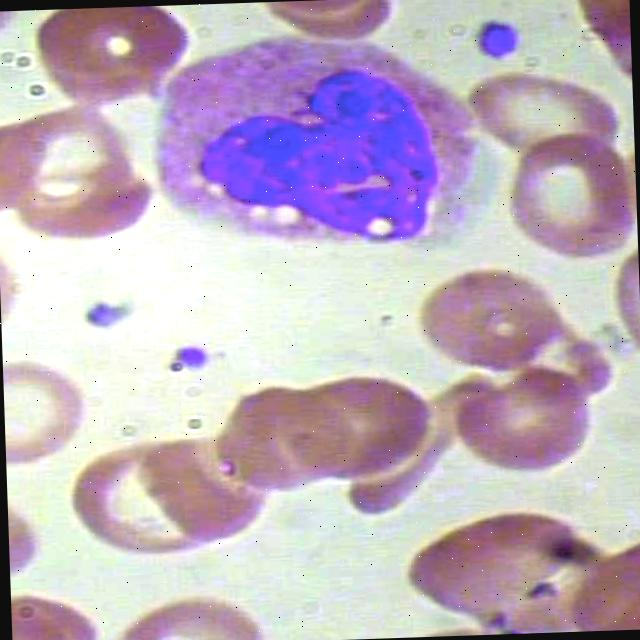Platelets: (468, 18, 530, 66), (73, 291, 130, 333), (165, 334, 212, 378)
RBC: (392, 497, 586, 625), (65, 433, 224, 566), (500, 122, 638, 264), (25, 4, 202, 110), (454, 356, 600, 481), (288, 368, 434, 492), (217, 376, 363, 499), (466, 57, 626, 166), (4, 154, 164, 263), (416, 265, 572, 375), (1, 350, 113, 472)
WBC: (132, 8, 483, 272)
